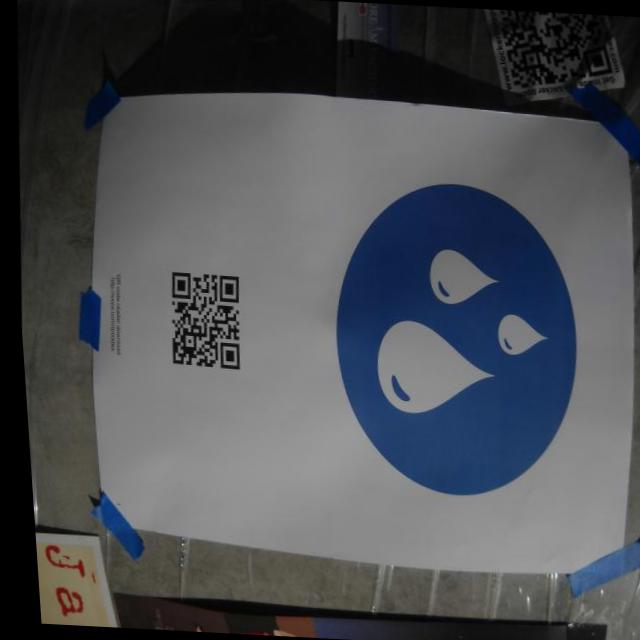qrcode: (164, 273, 240, 370)
